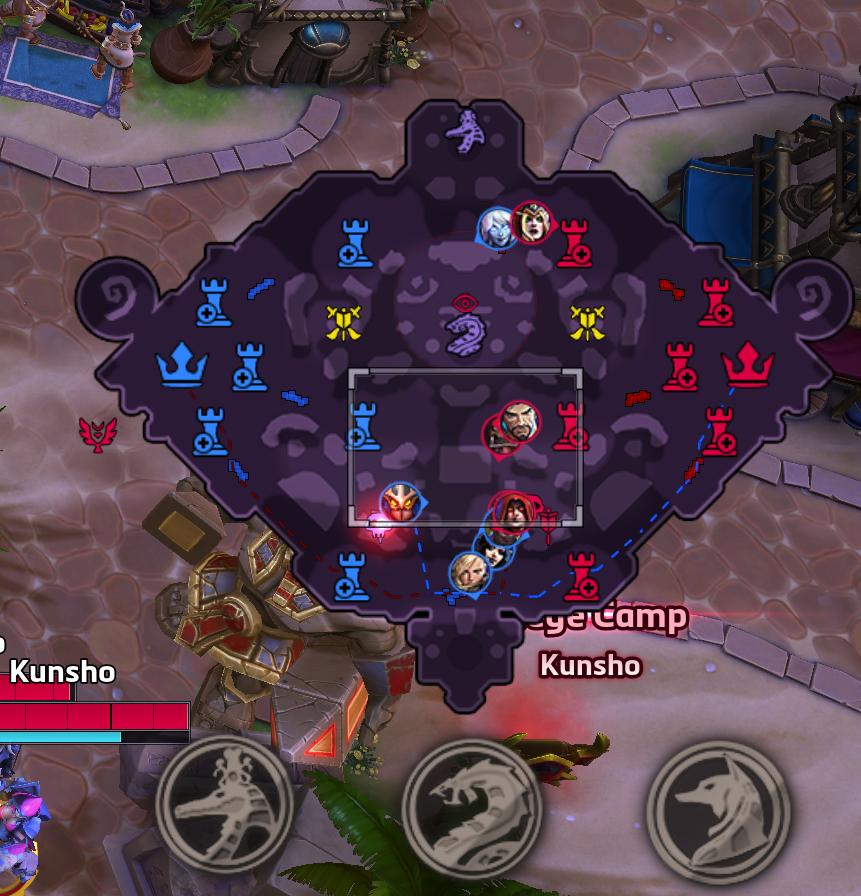blue nexus: (154, 340, 209, 387)
blue player: (447, 550, 492, 596), (379, 481, 423, 523), (470, 528, 512, 572), (475, 206, 516, 250)
blue tower: (330, 544, 372, 608), (194, 275, 233, 328), (191, 404, 230, 456), (230, 340, 269, 391), (337, 217, 374, 268), (347, 400, 381, 451)
red nexus: (720, 341, 775, 390)
red player: (490, 491, 537, 536), (496, 400, 540, 445), (511, 200, 554, 245), (479, 414, 523, 457)
red tower: (561, 547, 601, 608), (697, 405, 738, 457), (696, 277, 735, 328), (555, 217, 593, 269), (551, 400, 589, 451), (660, 341, 698, 392)
